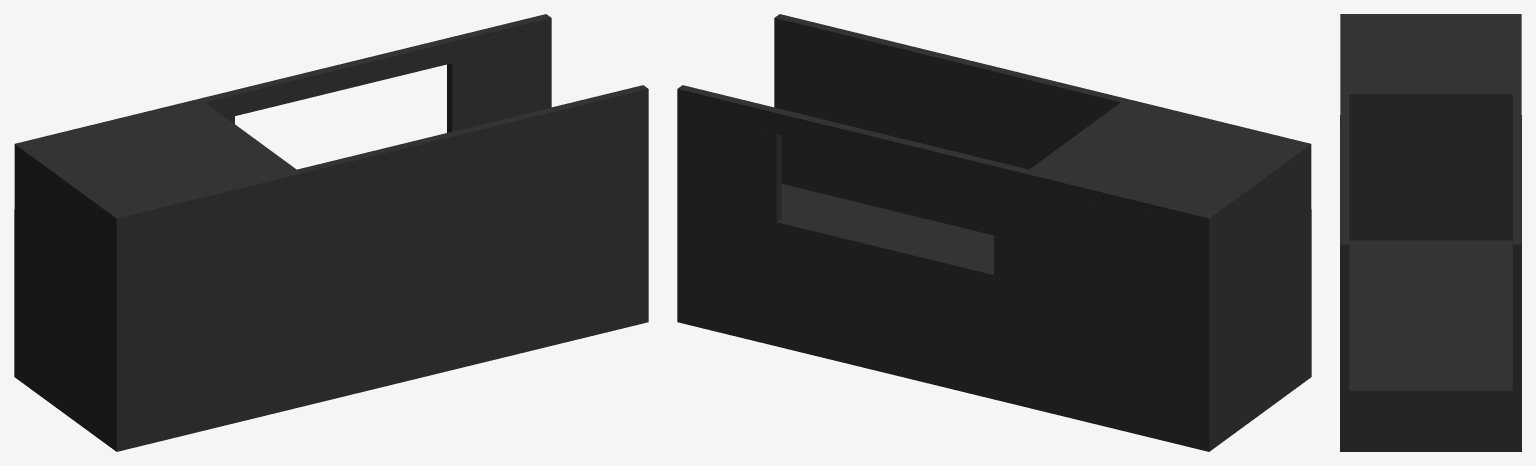
The model's file is BodyCollision.fbx.
The picture shows the model from 3 angles, left to right: view 1: azimuth 30°, elevation 25°; view 2: azimuth 150°, elevation 25°; view 3: azimuth 270°, elevation 25°; orthographic projection. The views are drawn at different scales.
Parts seen in each view (by area): view 1: FoodTruckBodyCol; view 2: FoodTruckBodyCol; view 3: FoodTruckBodyCol.
Part boxes in pixels (x1,y1,x2,y2): FoodTruckBodyCol: [14, 14, 648, 451]; FoodTruckBodyCol: [677, 14, 1311, 451]; FoodTruckBodyCol: [1340, 14, 1521, 451].
Size of the model in its own units: 600 by 252 by 200.
Materials: 1 (1 with a texture image).
